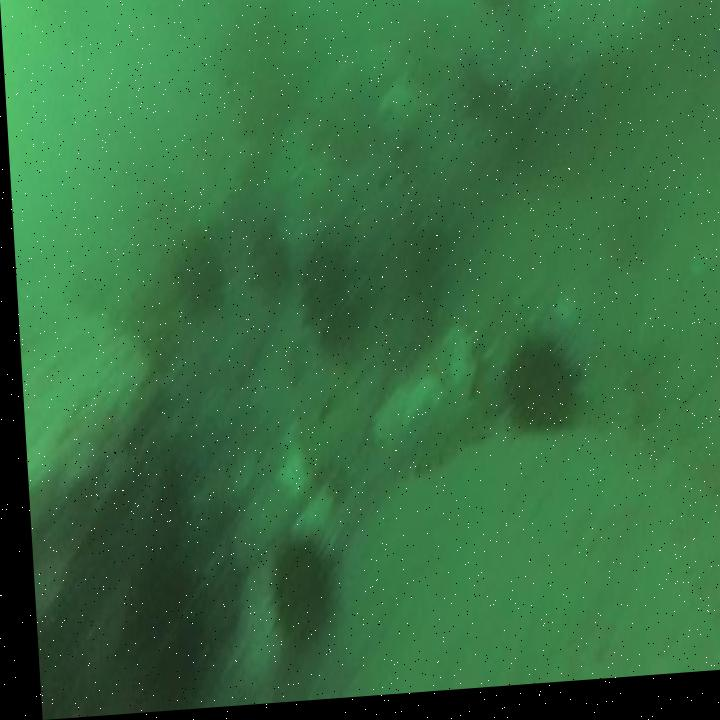echinus: (117, 570, 198, 709), (500, 347, 574, 441), (263, 550, 325, 653), (296, 249, 354, 353), (175, 238, 224, 312)
